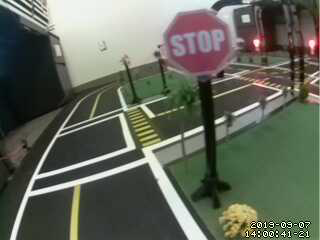Stop_Sign: (155, 4, 248, 81)
